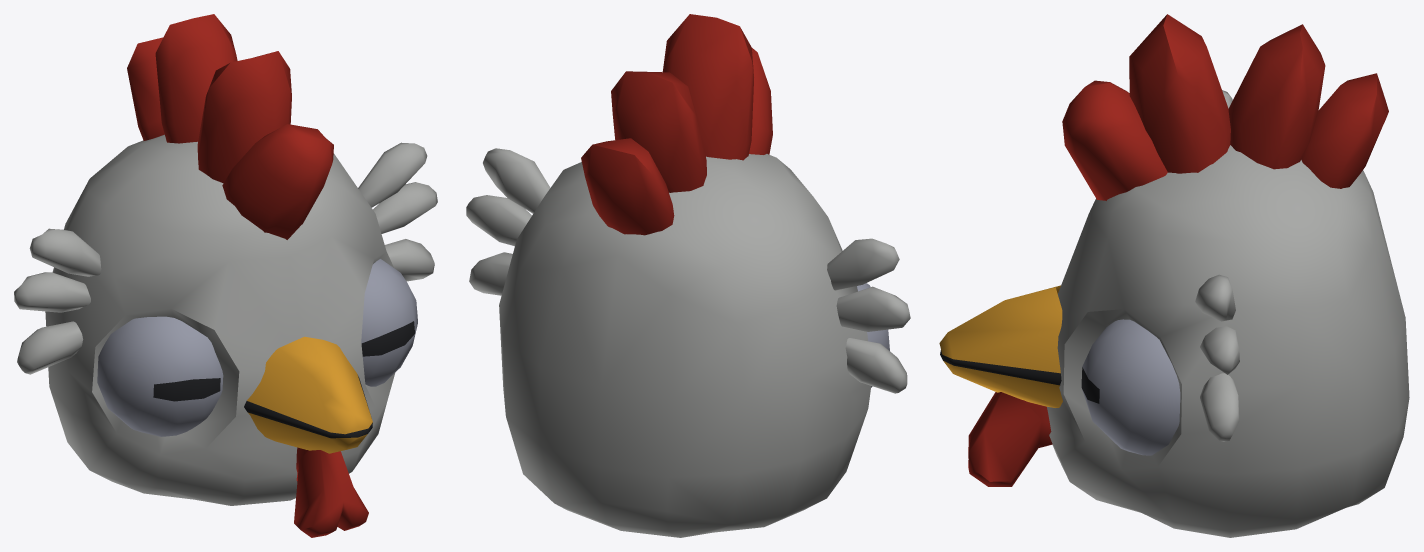
File: cc0-chicken-lod1.glb
3 views of the same model, side by side, from view 1: azimuth 30°, elevation 25°; view 2: azimuth 150°, elevation 25°; view 3: azimuth 270°, elevation 25° (orthographic). The views are drawn at different scales.
Parts seen in each view (by area): view 1: part_4; view 2: part_4; view 3: part_4.
Part boxes in pixels (x1=…): part_4: x1=14, y1=14, x2=437, y2=537; part_4: x1=466, y1=14, x2=910, y2=537; part_4: x1=939, y1=14, x2=1409, y2=537.
Bounding box in the file's own units: 2.35 × 2.35 × 2.1.
Materials: 1 (1 with a texture image).
